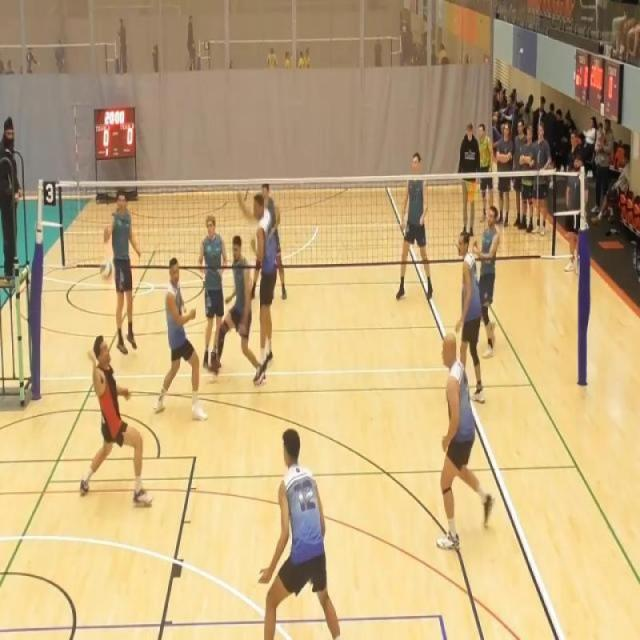volleyball: (100, 258, 116, 284)
